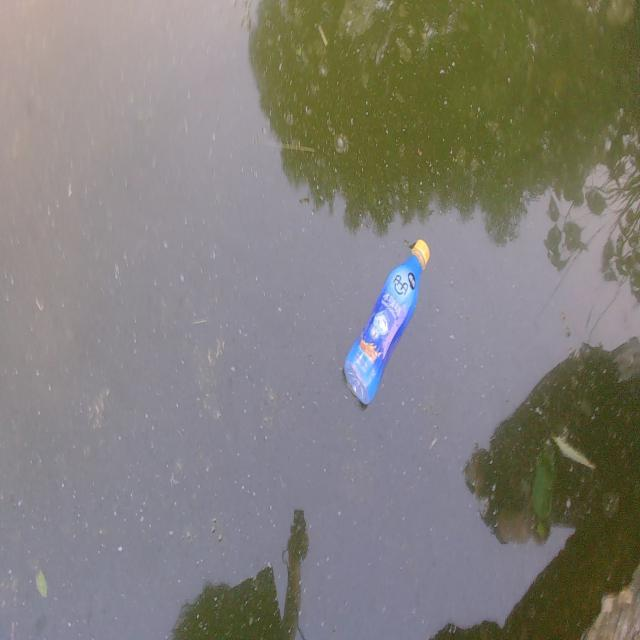garbage: (343, 237, 431, 406)
